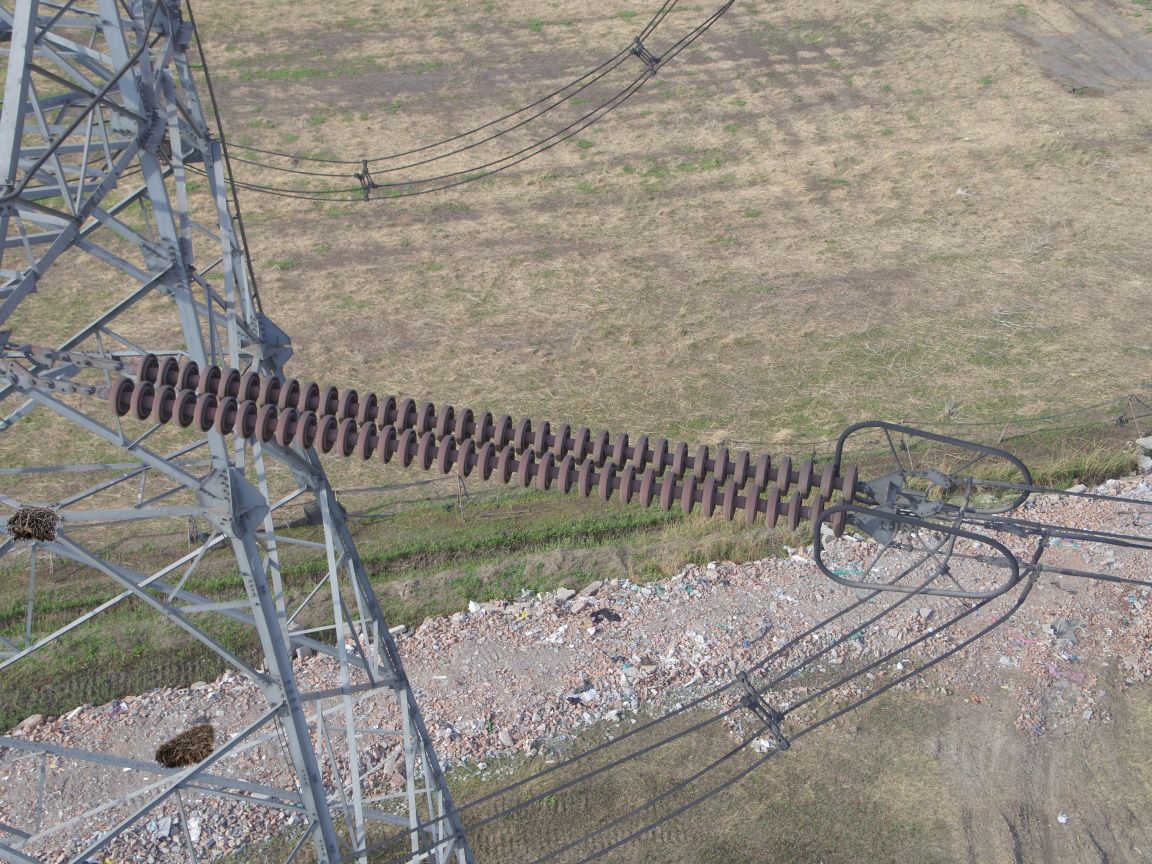nest: (151, 721, 217, 773), (7, 502, 62, 543)
